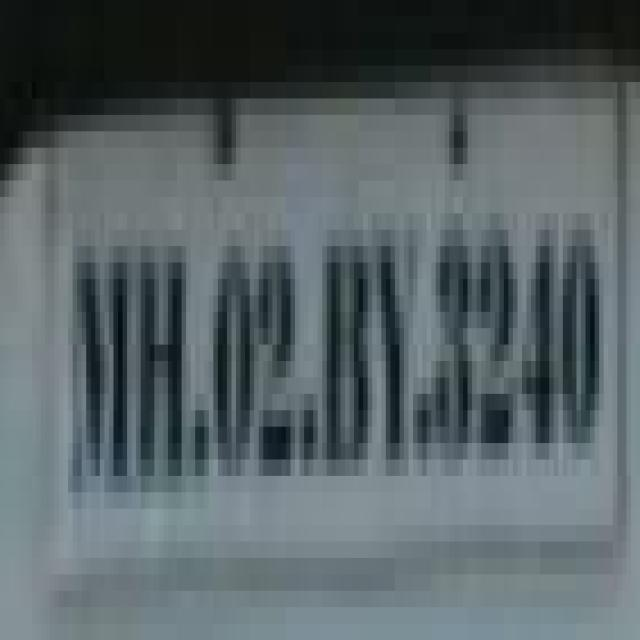license_plate: (0, 33, 608, 591)
